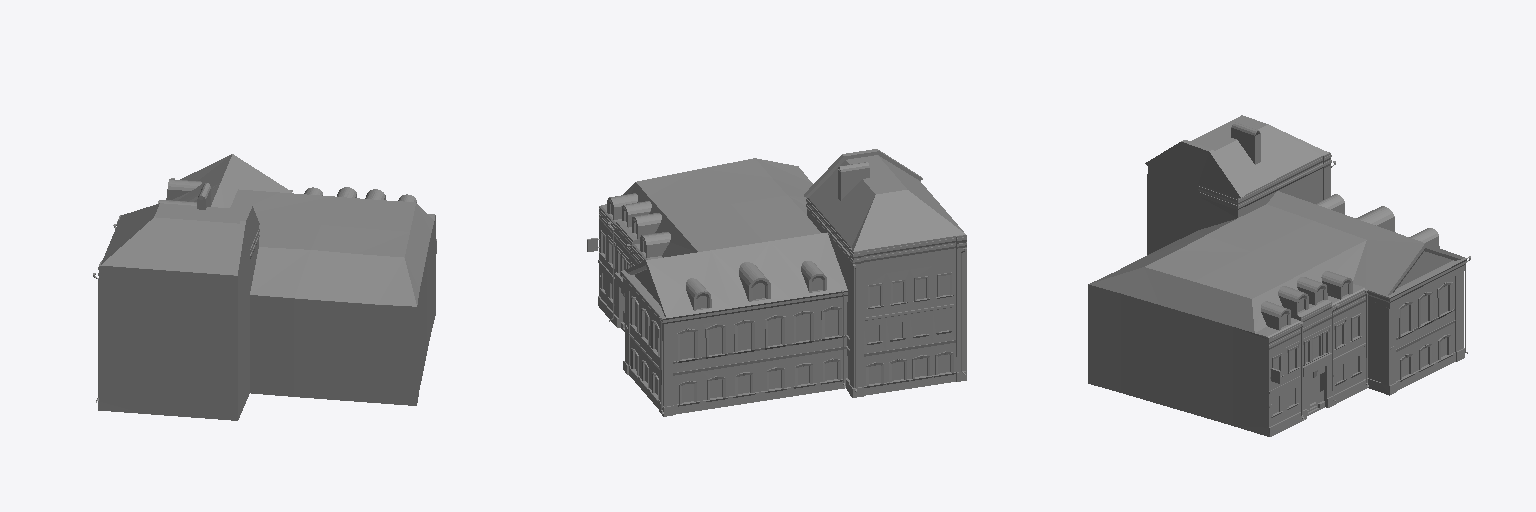
The model's file is casa-banca.obj.
3 views of the same model, side by side, from view 1: azimuth 30°, elevation 25°; view 2: azimuth 150°, elevation 25°; view 3: azimuth 270°, elevation 25° (orthographic).
Parts seen in each view (by area): view 1: domik; view 2: domik; view 3: domik.
Part boxes in pixels (x1,y1,x2,y2): domik: (93,154,436,420); domik: (587,149,966,416); domik: (1088,115,1470,436).
Bounding box in the file's own units: 330 × 167 × 303.